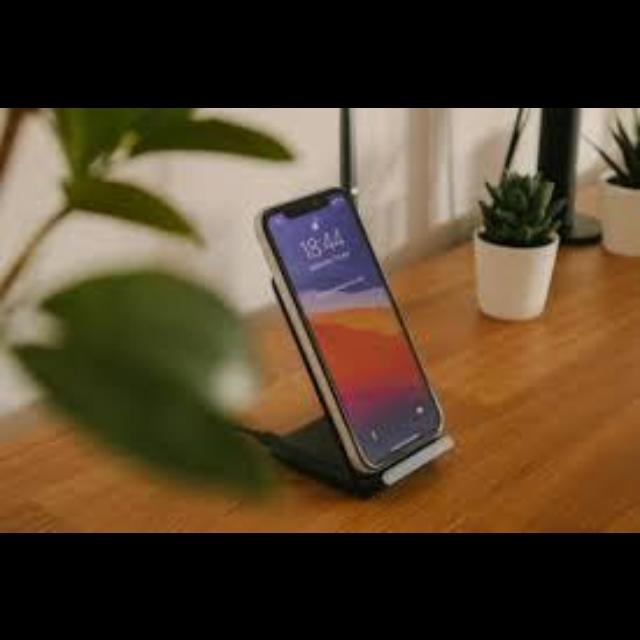Phone: (258, 185, 444, 471)
